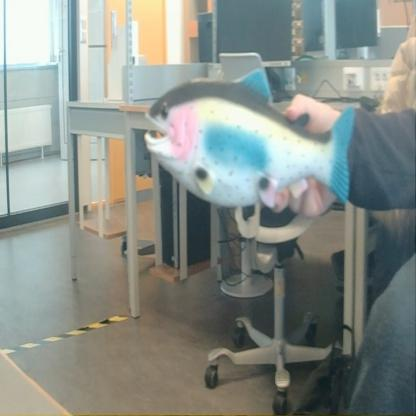rubberfish: (142, 60, 357, 213)
